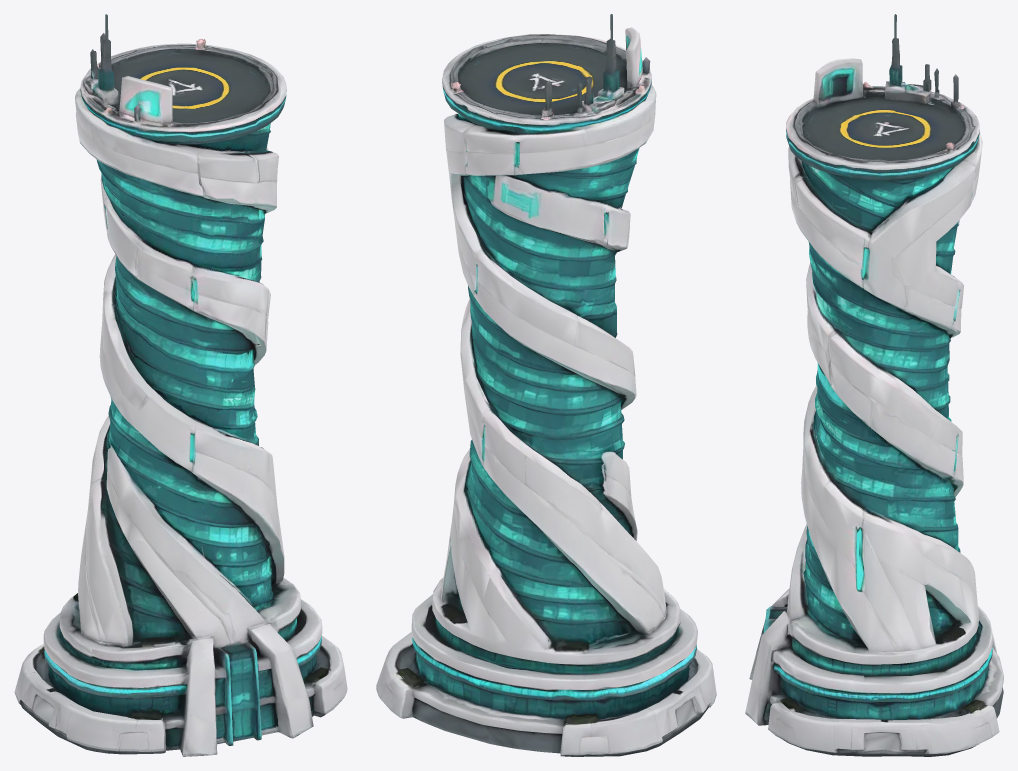
File: env-building-6.glb
3 renders of one model, left to right at view 1: azimuth 30°, elevation 25°; view 2: azimuth 150°, elevation 25°; view 3: azimuth 270°, elevation 25°, orthographic. The views are drawn at different scales.
Parts seen in each view (by area): view 1: env-building-6; view 2: env-building-6; view 3: env-building-6.
Part boxes in pixels (x1=…): env-building-6: x1=14, y1=14, x2=347, y2=756; env-building-6: x1=376, y1=14, x2=716, y2=756; env-building-6: x1=745, y1=14, x2=1003, y2=756.
Size of the model in its own units: 8.06 by 19 by 6.86.
1 material, 1 textured.
